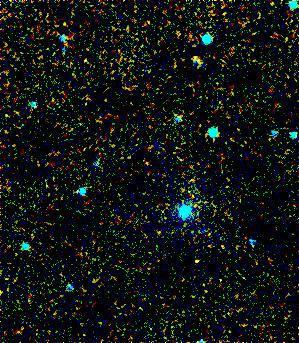star: (181, 246, 211, 276)
